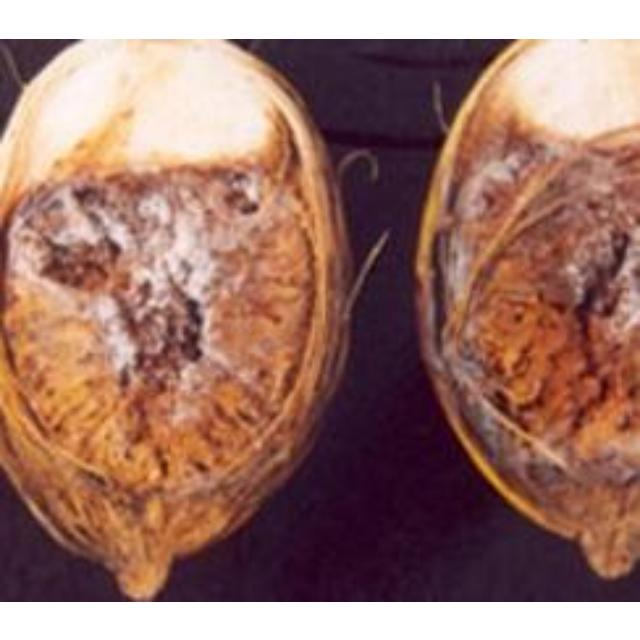damaged: (0, 38, 349, 599), (420, 38, 637, 570)
